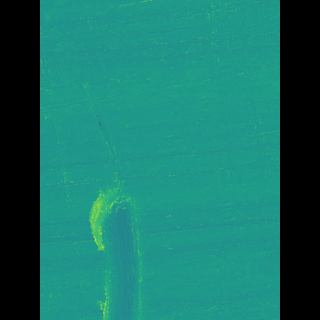Loch: (70, 7, 134, 187), (105, 183, 151, 320)
